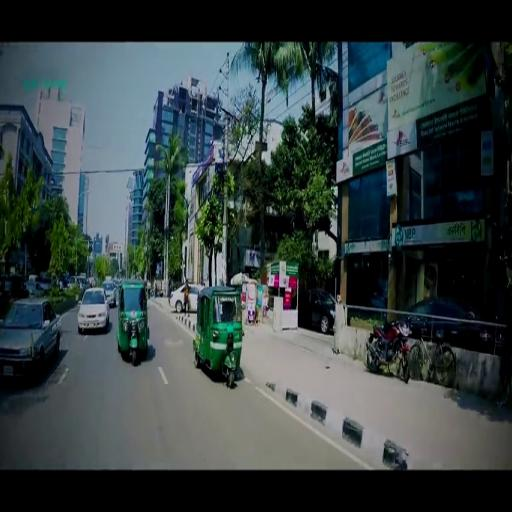bicycle: (409, 337, 458, 385)
car: (1, 296, 61, 378), (78, 288, 110, 329), (169, 282, 202, 313), (102, 280, 117, 307)
motorbike: (367, 322, 410, 381)
three wheelers (CNG): (193, 287, 244, 387), (117, 281, 151, 367)
